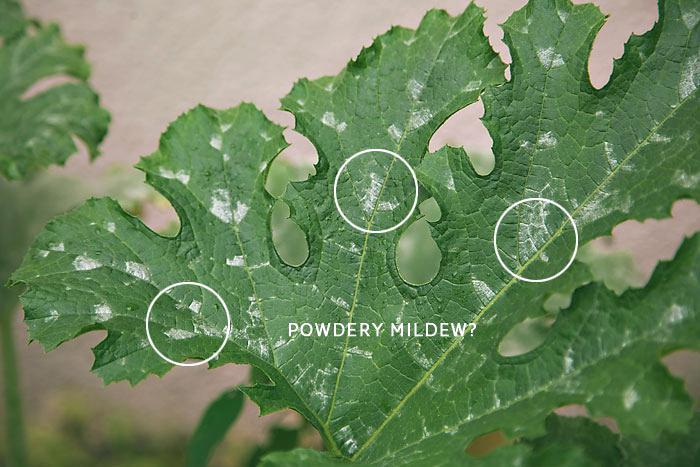Squash Powdery mildew leaf: (28, 1, 698, 444)
